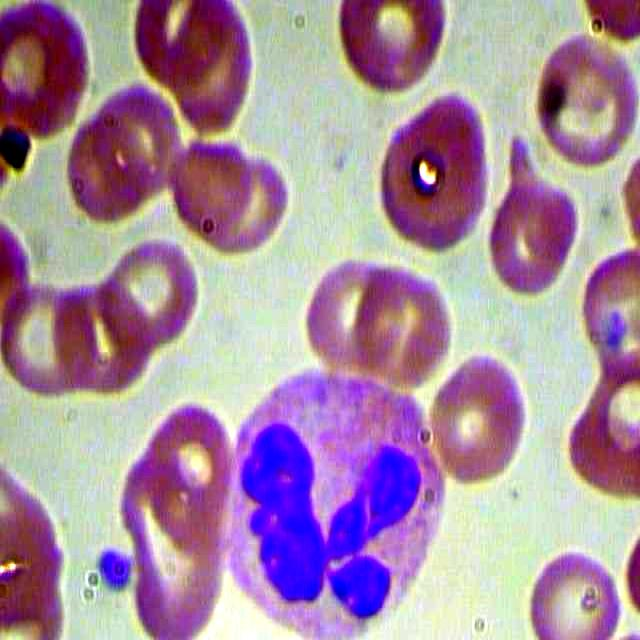Platelets: (87, 541, 137, 599)
RBC: (372, 85, 499, 260), (421, 356, 545, 489), (483, 133, 582, 296), (95, 232, 211, 360), (534, 29, 639, 170), (88, 76, 190, 211), (293, 258, 399, 378), (328, 1, 456, 95), (173, 4, 262, 137), (529, 548, 621, 640)
WBC: (209, 356, 460, 640)
